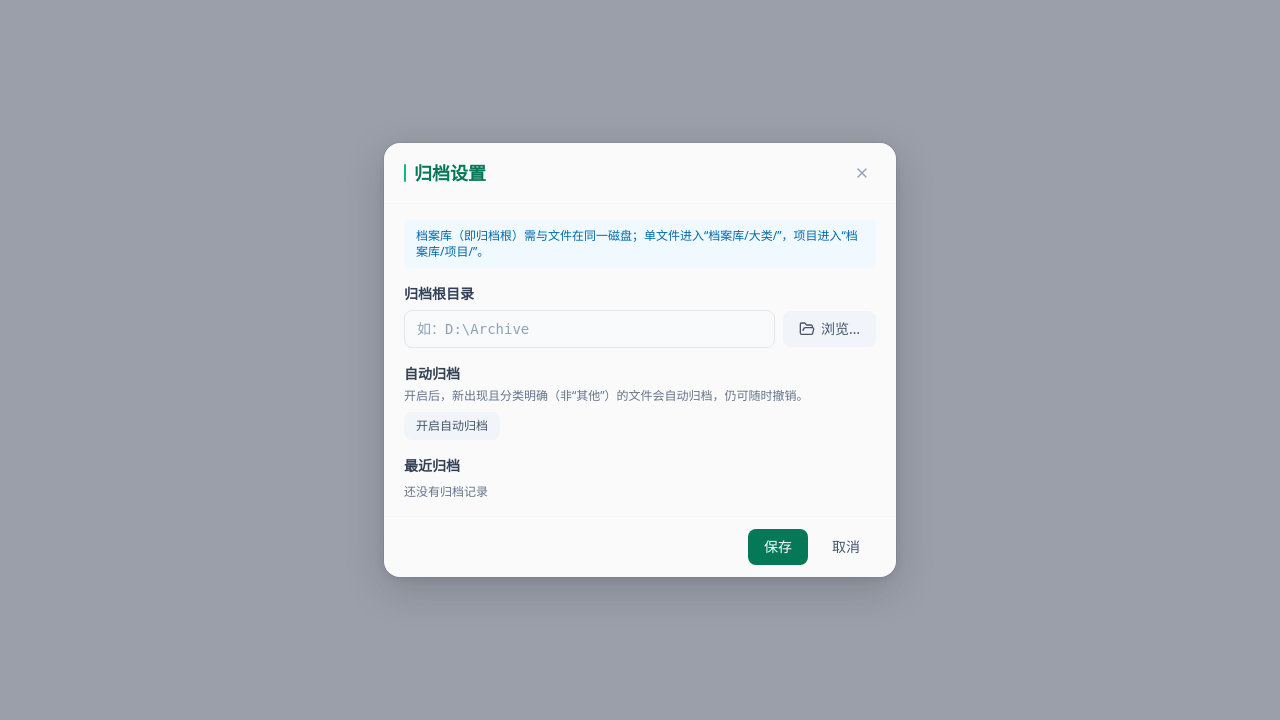
it: ArchiveSettingsDialog › 保存失败展示错误
The width and height of the screenshot is (1280, 720).
Step 1. Click the button "保存" → (778, 547), box [748,529,808,565]
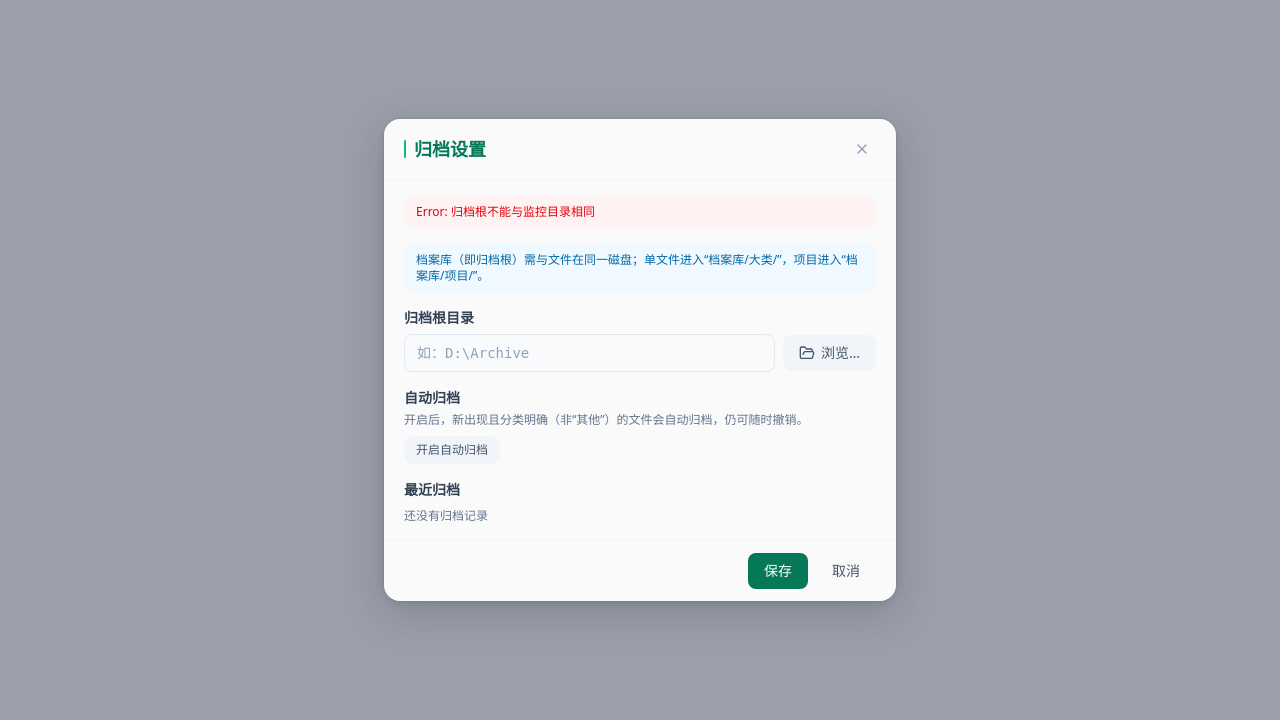
Expected: the text "Error: 归档根不能与监控目录相同" is shown, [404,196,876,228]
